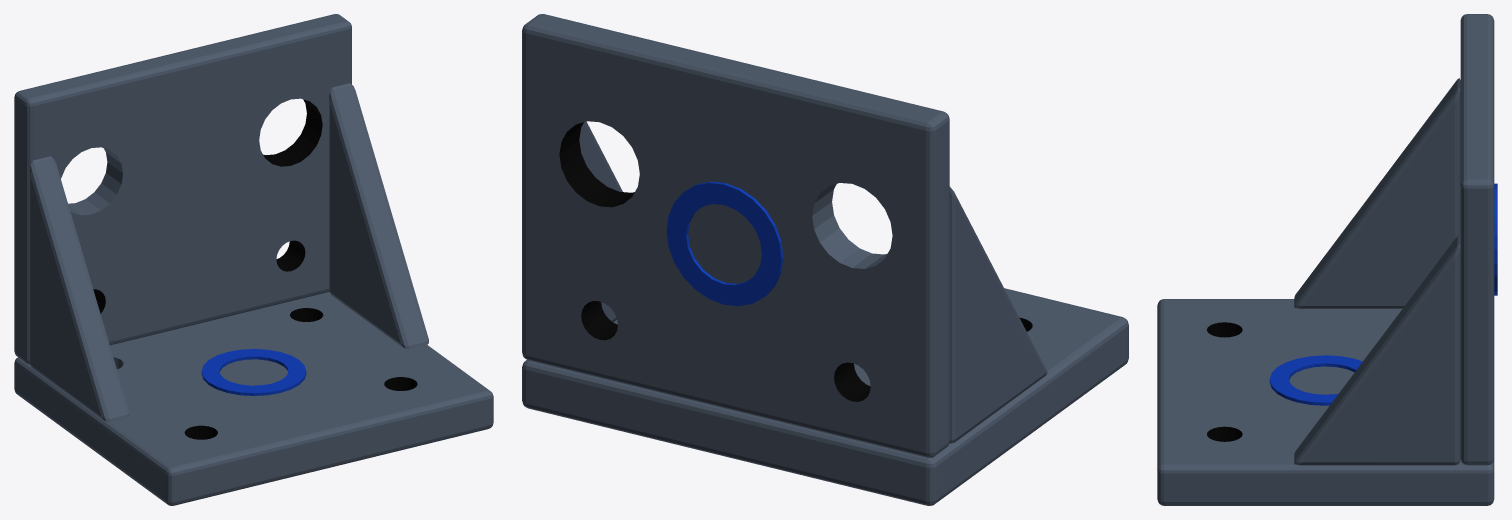
Rendered from servo_bracket.obj.
3 renders of one model, left to right at view 1: azimuth 30°, elevation 25°; view 2: azimuth 150°, elevation 25°; view 3: azimuth 270°, elevation 25°, orthographic. The views are drawn at different scales.
Visible parts, largest first — view 1: servo_bracket; view 2: servo_bracket; view 3: servo_bracket.
Part boxes in pixels (bbox=[...]): servo_bracket: bbox=[14, 14, 493, 505]; servo_bracket: bbox=[522, 14, 1128, 505]; servo_bracket: bbox=[1157, 14, 1497, 505].
Size of the model in its own units: 0.036 by 0.032 by 0.0303.
